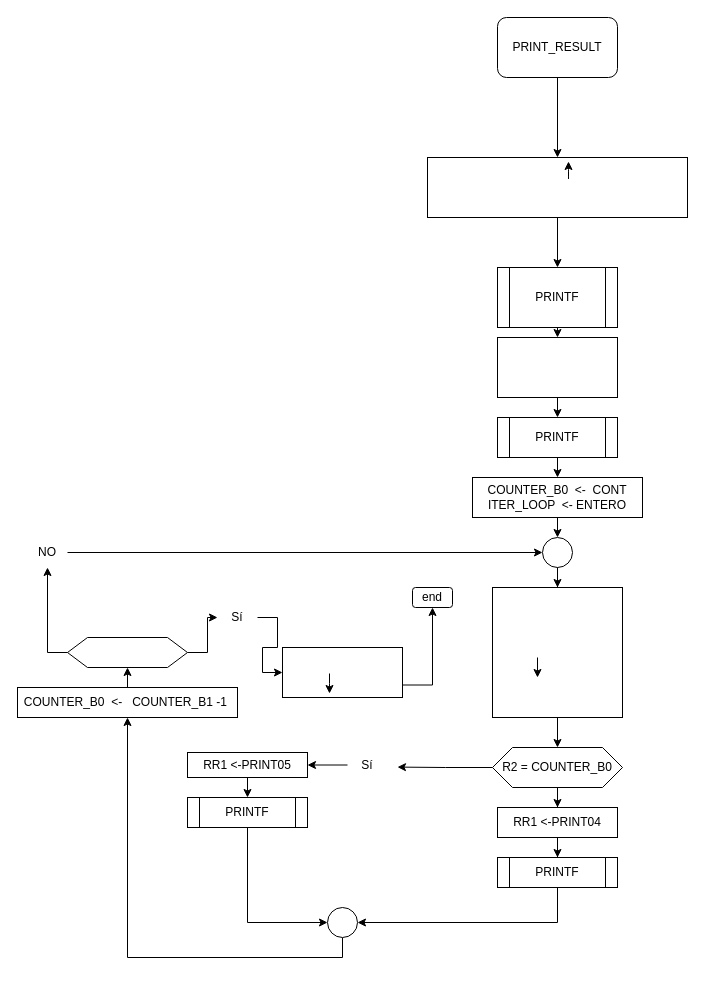
This 705x983 diagram has some shape labels left out. The shapes that lost their labels are listed below. From the top down, each one's centre as x and y in pixels, then its label:
At [557,187]: "Y WTEMP_1 <- (Y) RR1 <- PRINT02".
At [557,367]: "RR1 <- PRINT03".
At [127,652]: "COUNTER_B0 = 0".
At [342,672]: "Y <- WTEMP_1 Y".
At [557,652]: "Y <- ITER_LOOP R1 <- 0 R2 <- ((Y)) Y <- (Y) + 1 RR1 ITER_LOOP <- (Y) R2 <- 1".
